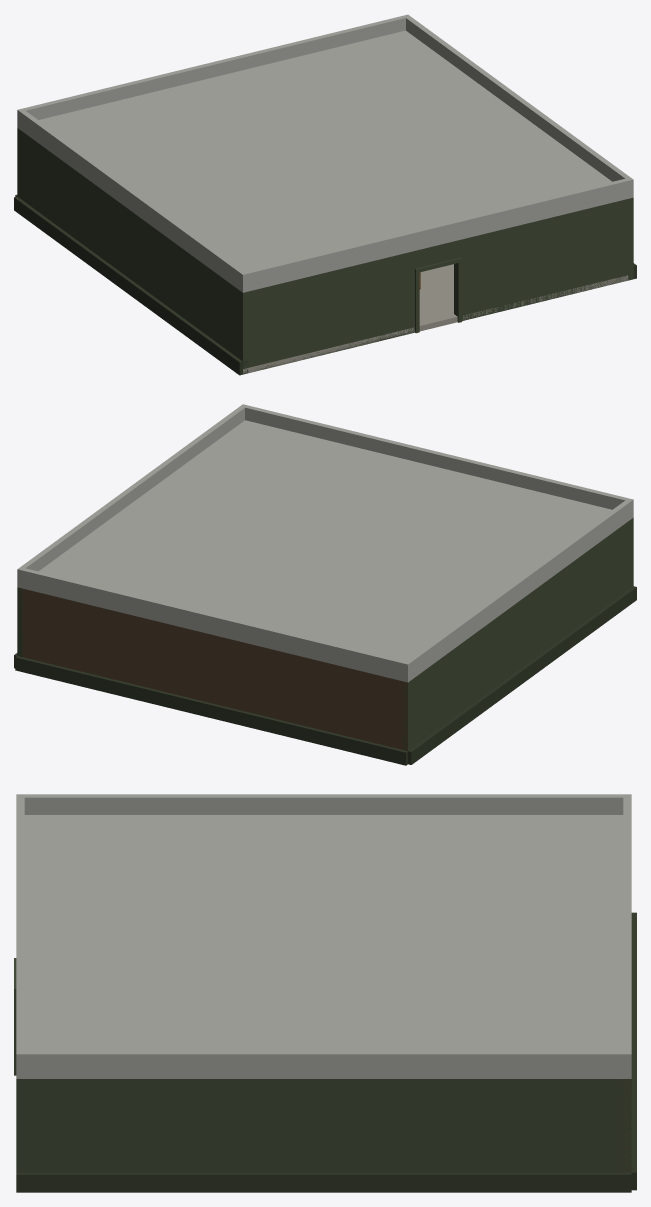
File: bunker_military.glb
3 views of the same model, one above another, from view 1: azimuth 30°, elevation 25°; view 2: azimuth 150°, elevation 25°; view 3: azimuth 270°, elevation 25° (orthographic). The views are drawn at different scales.
Parts seen in each view (by area): view 1: bunker_military; view 2: bunker_military; view 3: bunker_military.
Boxes of the visible parts, x1,y1,x2,y2 form: bunker_military: (14, 14, 636, 375); bunker_military: (14, 404, 636, 765); bunker_military: (14, 794, 636, 1192).
Bounding box in the file's own units: 15.26 × 3.66 × 15.19.
